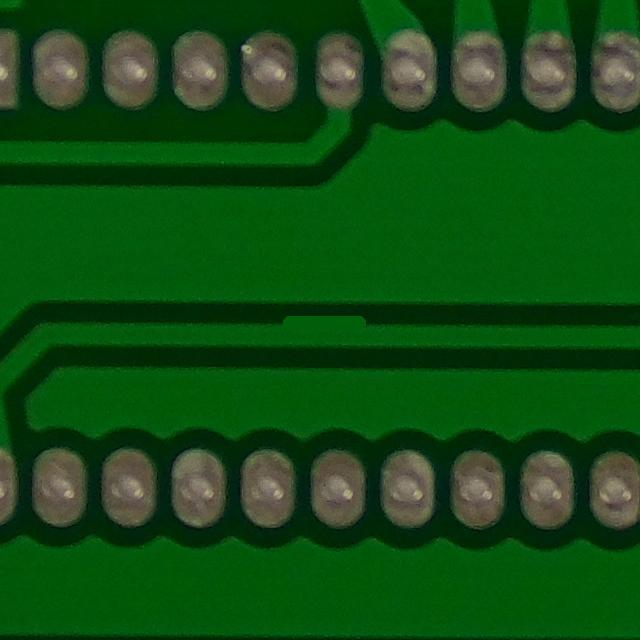spur: (264, 289, 377, 351)
